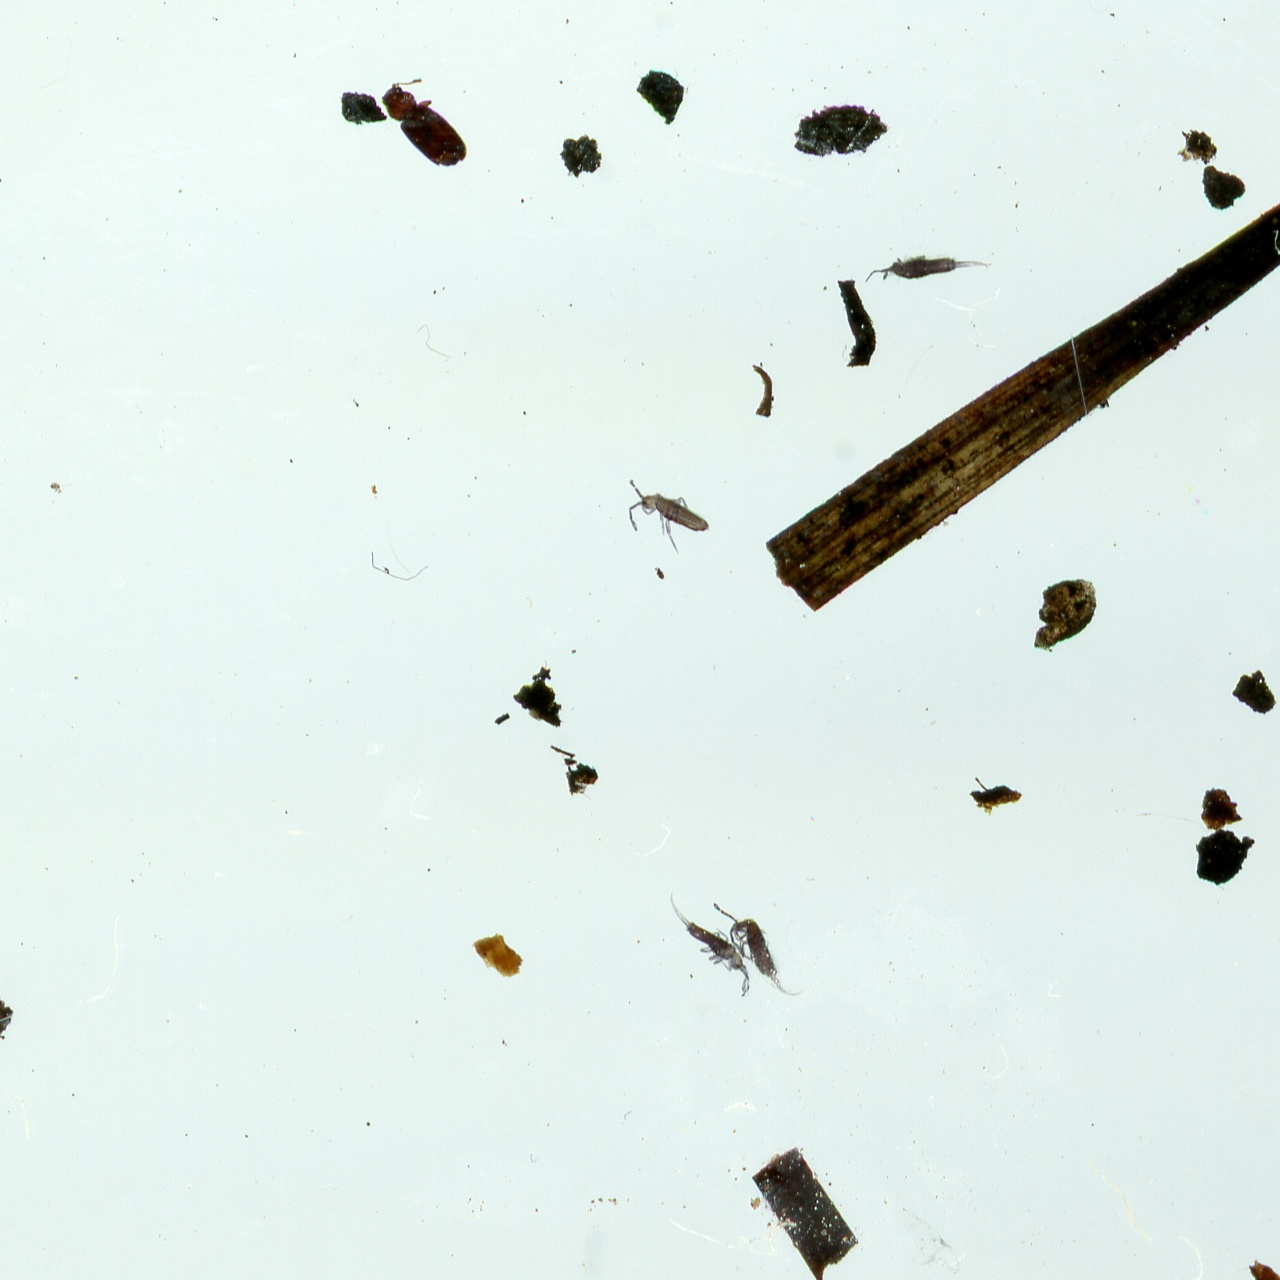arthropod: (650, 865, 766, 1016), (705, 880, 814, 1020), (368, 60, 479, 188), (621, 472, 720, 561), (857, 247, 1001, 292)
